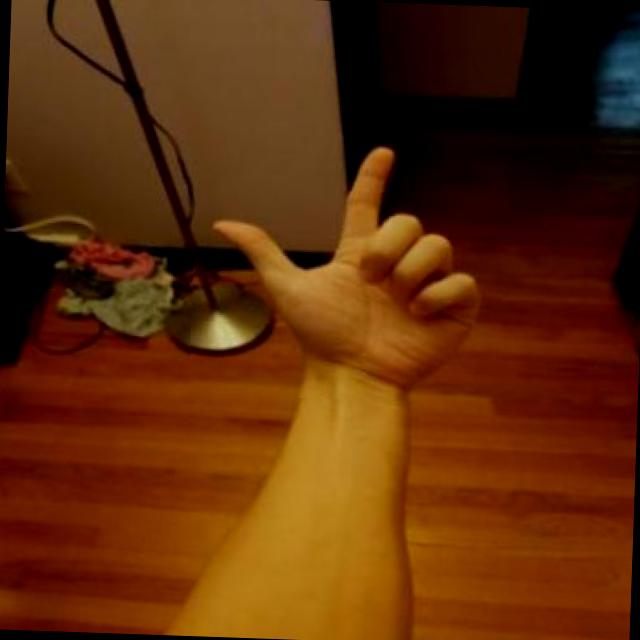L: (188, 119, 508, 406)
